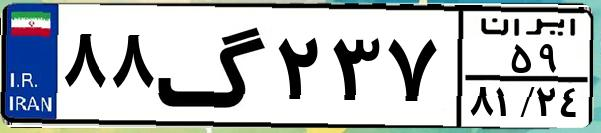1: (495, 70, 520, 125)
2: (270, 28, 330, 110), (535, 70, 560, 125)
3: (330, 28, 385, 110)
4: (560, 70, 590, 125)
5: (508, 27, 537, 80)
7: (385, 28, 445, 110)
8: (57, 26, 110, 100), (110, 28, 156, 98), (470, 70, 495, 125)
9: (537, 27, 568, 80)
گ: (156, 12, 270, 120)
